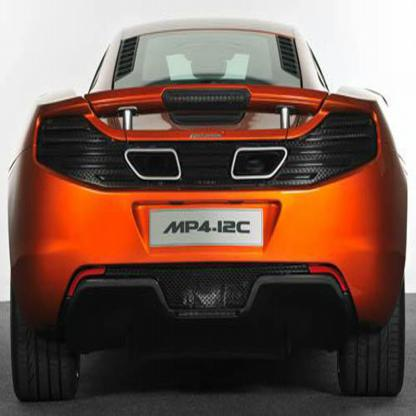car: (7, 17, 407, 402)
